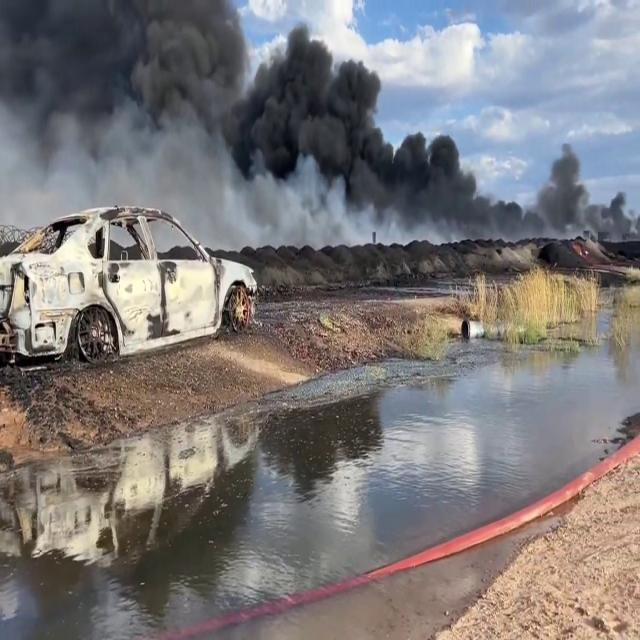Smoke: (0, 0, 637, 277)
